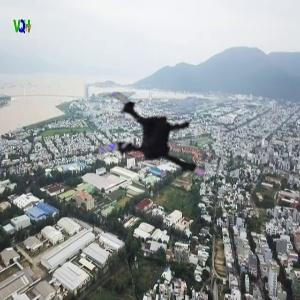drone: (79, 78, 213, 212)
